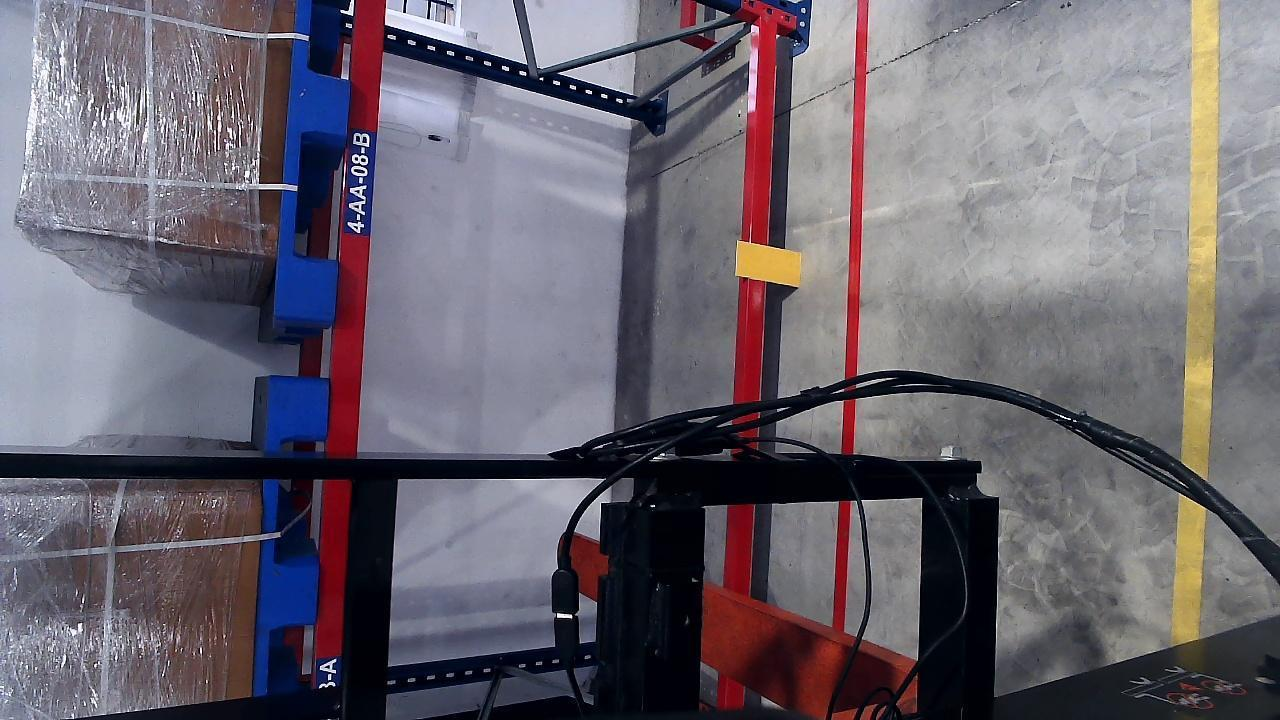red_line: (827, 0, 864, 630)
yellow_line: (1171, 4, 1222, 639)
